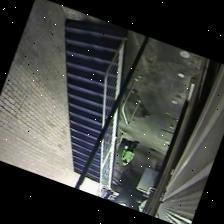person: (121, 140, 138, 165)
